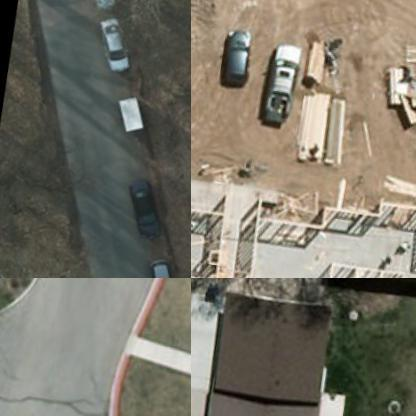car: (116, 176, 166, 244), (88, 16, 132, 77), (214, 28, 250, 84), (138, 257, 176, 277), (76, 0, 118, 17)
pickup: (257, 40, 301, 128)
